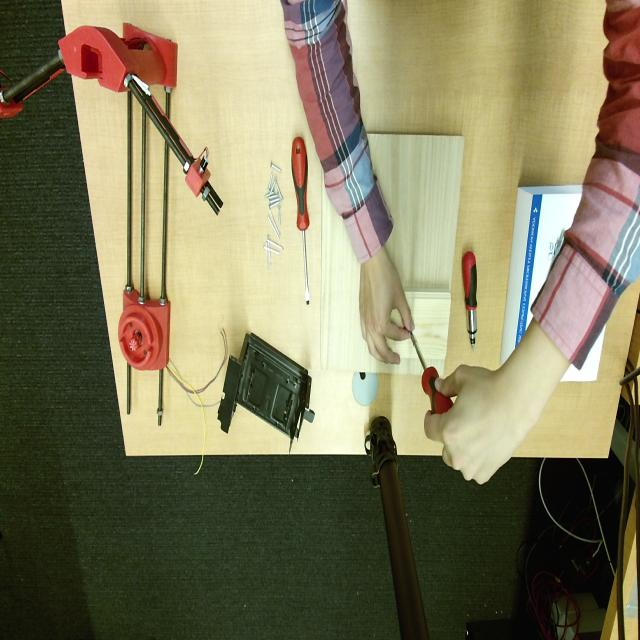screwdriver: (410, 331, 452, 412), (291, 138, 310, 304), (462, 251, 478, 349)
